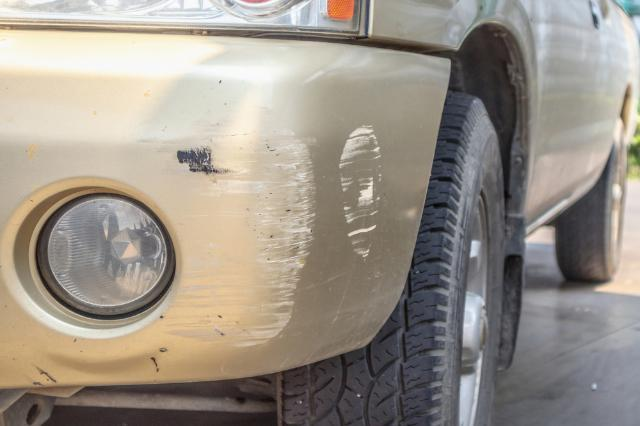rub: (144, 107, 320, 349), (337, 123, 387, 260)
